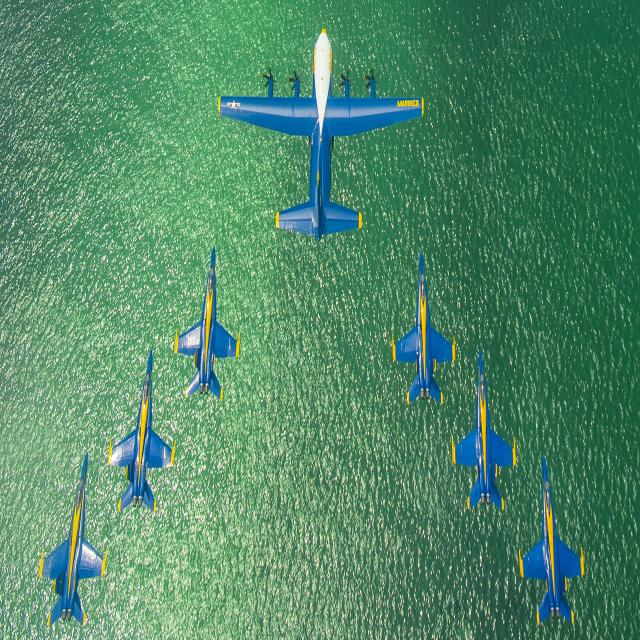MIL_Plane: (218, 28, 424, 242), (38, 452, 108, 628), (519, 454, 585, 626), (108, 349, 176, 513), (452, 348, 516, 511), (174, 244, 240, 401), (392, 250, 456, 405)
